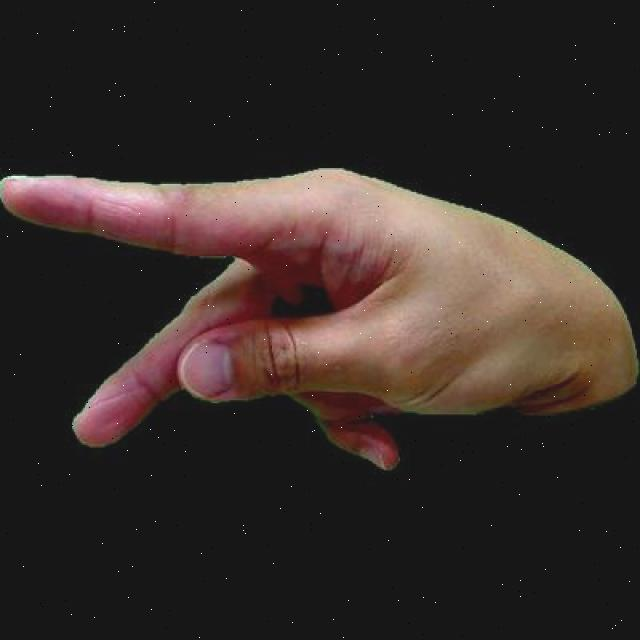p: (0, 150, 637, 484)
